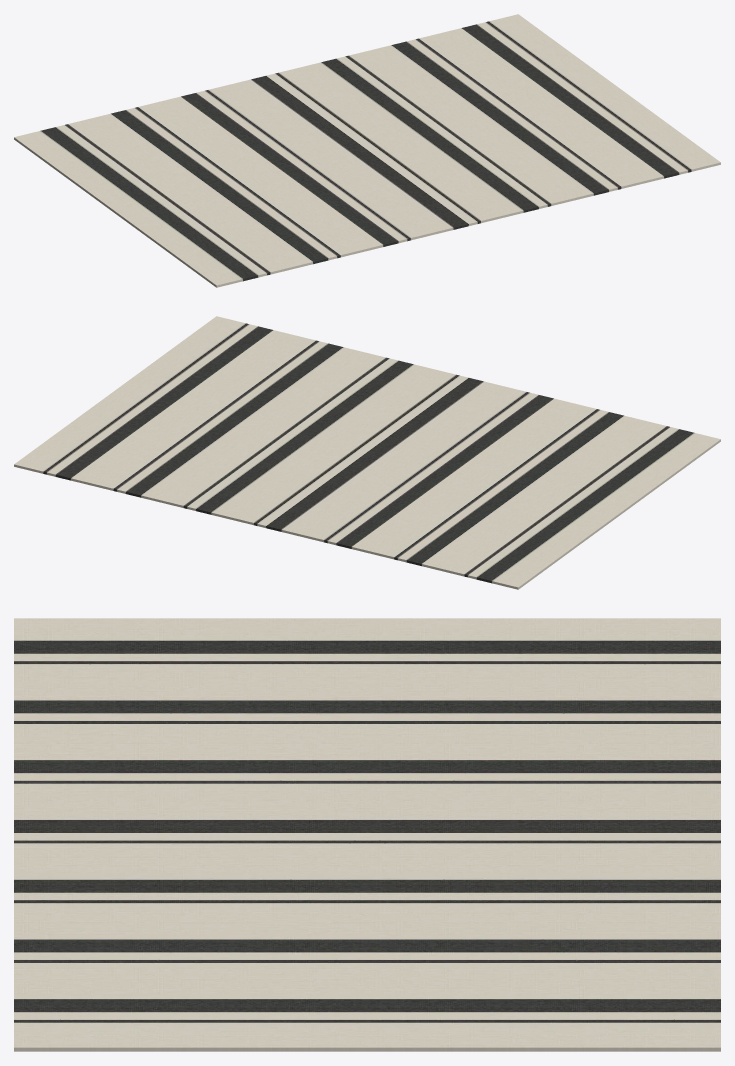
The model's file is alfombra_rayas_160x230.glb.
The picture shows the model from 3 angles, top to bottom: view 1: azimuth 30°, elevation 25°; view 2: azimuth 150°, elevation 25°; view 3: azimuth 270°, elevation 25°; orthographic projection. The views are drawn at different scales.
Visible parts, largest first — view 1: alfombra_rayas_160x230; view 2: alfombra_rayas_160x230; view 3: alfombra_rayas_160x230.
Boxes of the visible parts, x1,y1,x2,y2 form: alfombra_rayas_160x230: (14,14,720,287); alfombra_rayas_160x230: (14,316,720,589); alfombra_rayas_160x230: (14,618,720,1051).
Size of the model in its own units: 2.3 by 0.01 by 1.6.
1 material, 1 textured.
